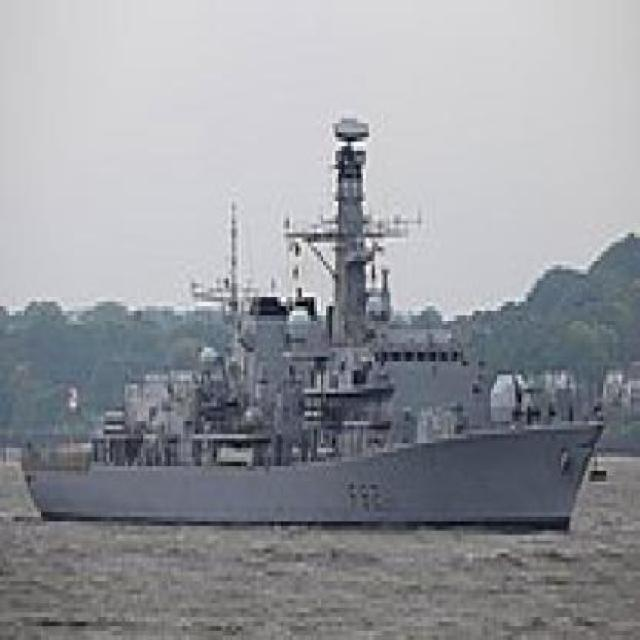warship2: (17, 84, 617, 550)
